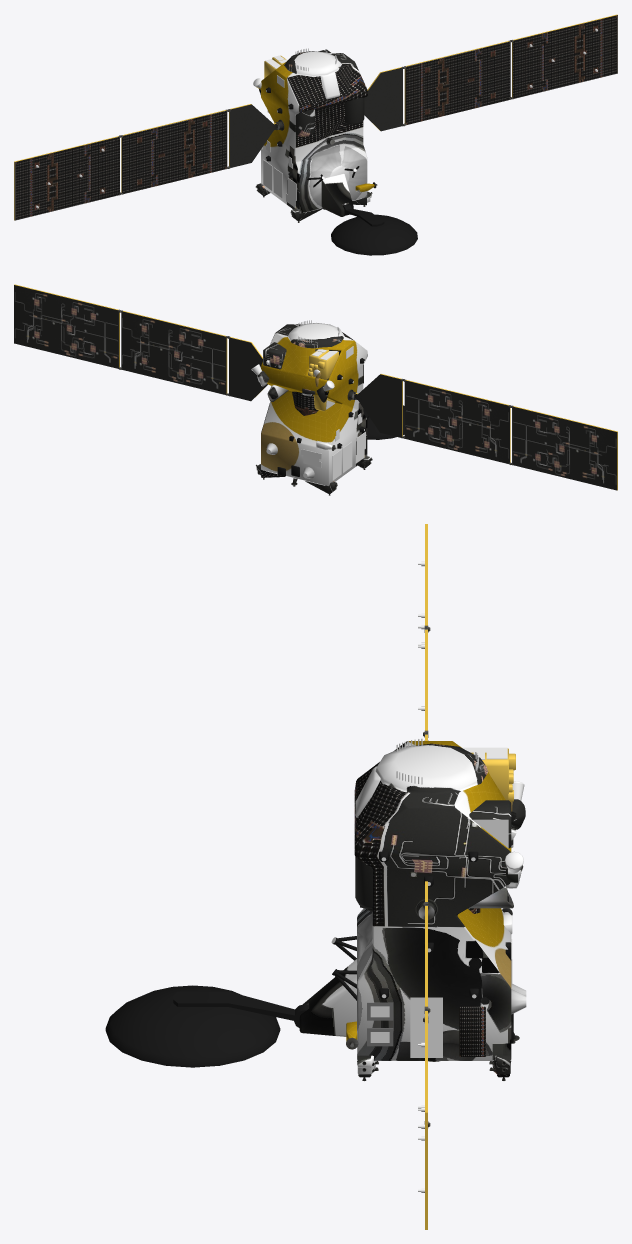
The model's file is probetgo.glb.
3 views of the same model, one above another, from view 1: azimuth 30°, elevation 25°; view 2: azimuth 150°, elevation 25°; view 3: azimuth 270°, elevation 25° (orthographic). The views are drawn at different scales.
Visible parts, largest first — view 1: TGO_BUS, right_array_2, left_array_2, left_array_3, right_array_3, HGA_pivot, right_array_1, left_array_1, reflectors; view 2: TGO_BUS, left_array_2, right_array_2, right_array_3, left_array_3, right_array_1, left_array_1, reflectors, HGA_pivot, instruments; view 3: TGO_BUS, HGA_pivot, reflectors.
Part boxes in pixels (box(x1,y1,x2,y2)): TGO_BUS: box(253, 49, 374, 221); right_array_2: box(121, 109, 229, 194); left_array_2: box(403, 40, 511, 126); left_array_3: box(510, 14, 617, 99); right_array_3: box(14, 135, 120, 220); HGA_pivot: box(331, 204, 417, 255); right_array_1: box(228, 104, 277, 168); left_array_1: box(364, 66, 403, 131); reflectors: box(263, 55, 296, 207); TGO_BUS: box(251, 323, 371, 494); left_array_2: box(121, 310, 229, 395); right_array_2: box(403, 379, 510, 464); right_array_3: box(510, 405, 617, 490); left_array_3: box(14, 284, 120, 369); right_array_1: box(354, 374, 403, 438); left_array_1: box(228, 336, 267, 401); reflectors: box(263, 346, 365, 480); HGA_pivot: box(363, 405, 404, 439); instruments: box(256, 443, 372, 495); TGO_BUS: box(299, 741, 525, 1077); HGA_pivot: box(105, 985, 309, 1067); reflectors: box(370, 747, 515, 1057).
Bounding box in the file's own units: 17.53 × 4.13 × 5.3.
10 materials, 2 textured.
